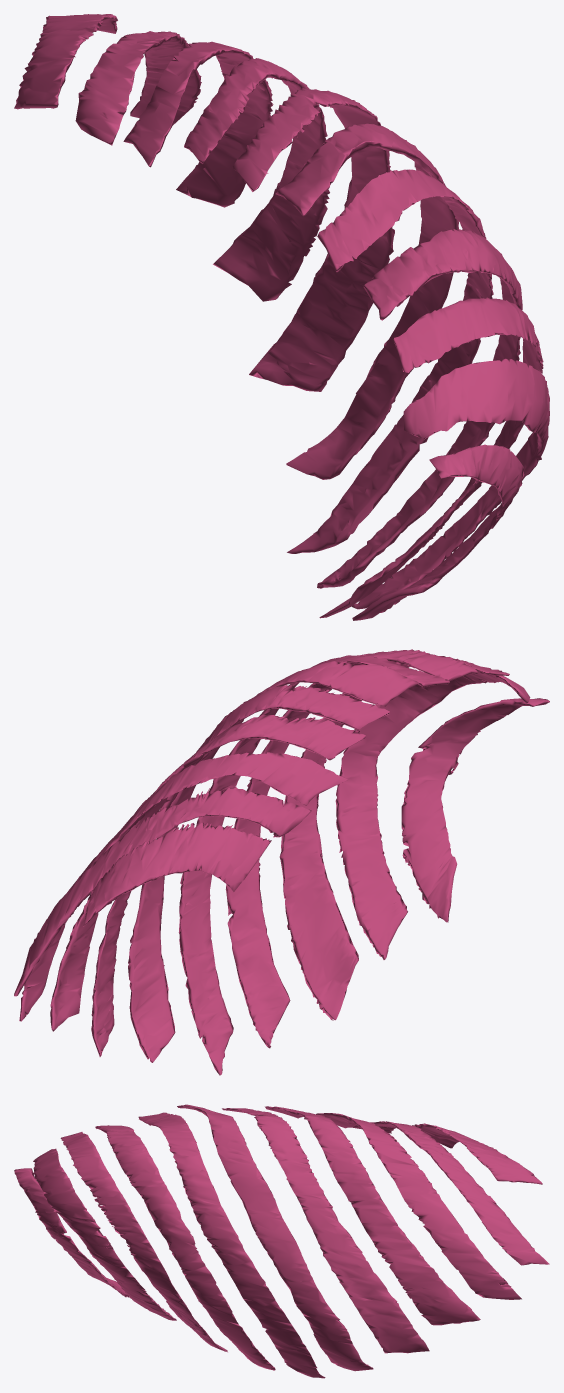
The picture shows the model from 3 angles, top to bottom: view 1: azimuth 30°, elevation 25°; view 2: azimuth 150°, elevation 25°; view 3: azimuth 270°, elevation 25°; orthographic projection. The views are drawn at different scales.
Parts seen in each view (by area): view 1: 左侧肋间外肌; view 2: 左侧肋间外肌; view 3: 左侧肋间外肌.
Part boxes in pixels (x1=…): 左侧肋间外肌: x1=14, y1=14, x2=549, y2=620; 左侧肋间外肌: x1=14, y1=649, x2=549, y2=1075; 左侧肋间外肌: x1=14, y1=1104, x2=549, y2=1378.
Bounding box in the file's own units: 0.1648 × 0.2873 × 0.5475.
